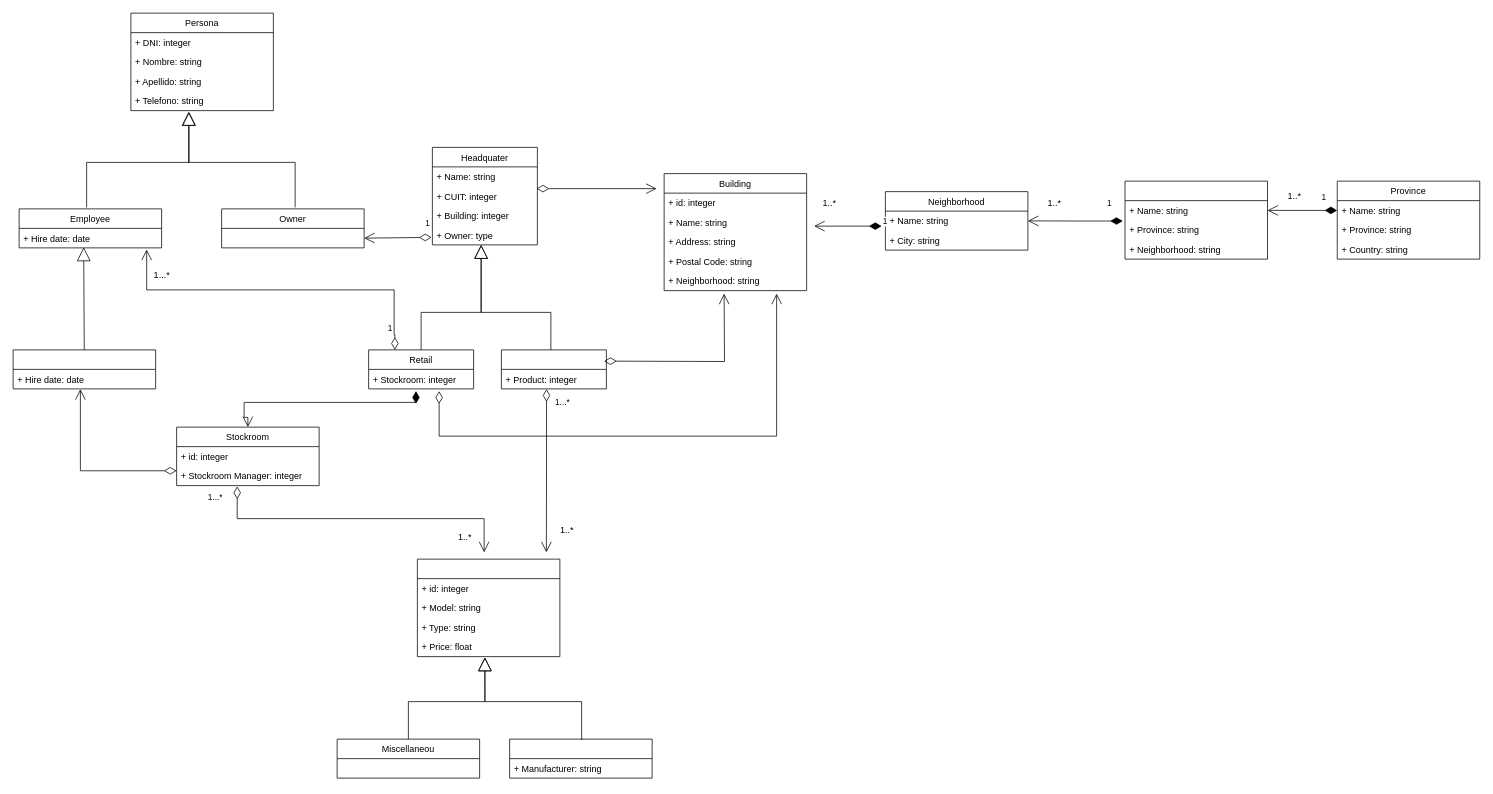
Image size: 1493x794. Some labels were removed from this diagram. The box of each missing label's shape, as (x1, y1, x2, y2) in pixels:
City: (1124, 180, 1268, 259)
Device: (509, 738, 652, 778)
Product: (417, 558, 560, 657)
Stockroom Manager: (12, 349, 156, 389)
Warehouse: (501, 349, 606, 389)
